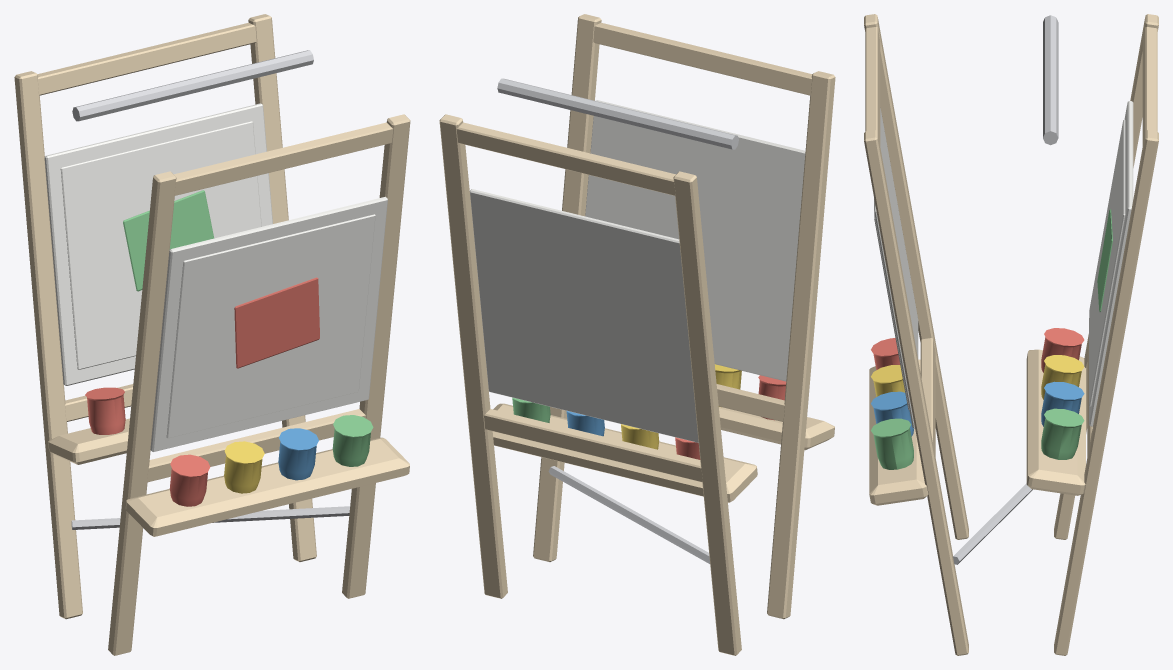
Rendered from nursery-and-primary-classroom-classroom-easel-415eedd7__34990.glb.
3 views of the same model, side by side, from view 1: azimuth 30°, elevation 25°; view 2: azimuth 150°, elevation 25°; view 3: azimuth 270°, elevation 25° (orthographic).
Visible parts, largest first — view 1: classroom-easel, easel-leg/board, easel-leg/carcass, easel-leg/red, easel-leg/yellow, easel-leg/blue, easel-leg/green; view 2: classroom-easel, easel-leg/board, easel-leg/carcass; view 3: classroom-easel, easel-leg/carcass, easel-leg/board, easel-leg/green, easel-leg/blue, easel-leg/yellow, easel-leg/red.
Part boxes in pixels (bbox=[...]): classroom-easel: bbox=[14, 14, 349, 619]; easel-leg/board: bbox=[150, 196, 387, 451]; easel-leg/carcass: bbox=[108, 114, 410, 655]; easel-leg/red: bbox=[169, 277, 319, 506]; easel-leg/yellow: bbox=[224, 441, 264, 493]; easel-leg/blue: bbox=[278, 428, 318, 480]; easel-leg/green: bbox=[332, 415, 373, 466]; classroom-easel: bbox=[439, 78, 757, 655]; easel-leg/board: bbox=[585, 100, 805, 381]; easel-leg/carcass: bbox=[533, 14, 835, 619]; classroom-easel: bbox=[953, 14, 1158, 655]; easel-leg/carcass: bbox=[864, 14, 968, 655]; easel-leg/board: bbox=[874, 108, 918, 428]; easel-leg/green: bbox=[871, 418, 913, 469]; easel-leg/blue: bbox=[871, 391, 913, 436]; easel-leg/yellow: bbox=[871, 365, 904, 396]; easel-leg/red: bbox=[871, 338, 900, 369].
Size of the model in its own units: 0.6201 by 1.17 by 0.6023.
